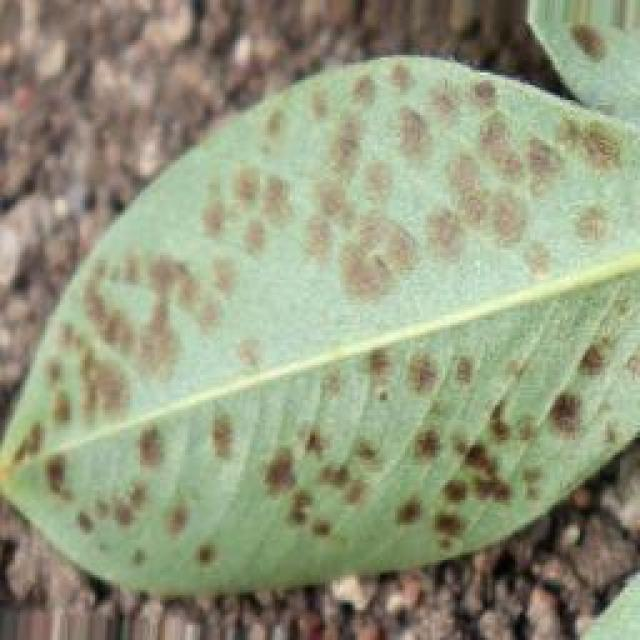Whitefly: (0, 62, 640, 582)
